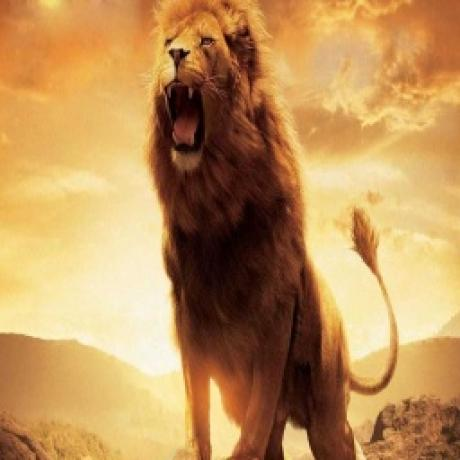Lion: (142, 0, 399, 460)
